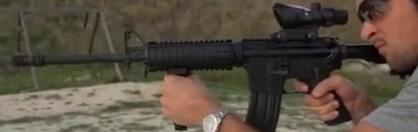gun: (1, 1, 418, 132)
